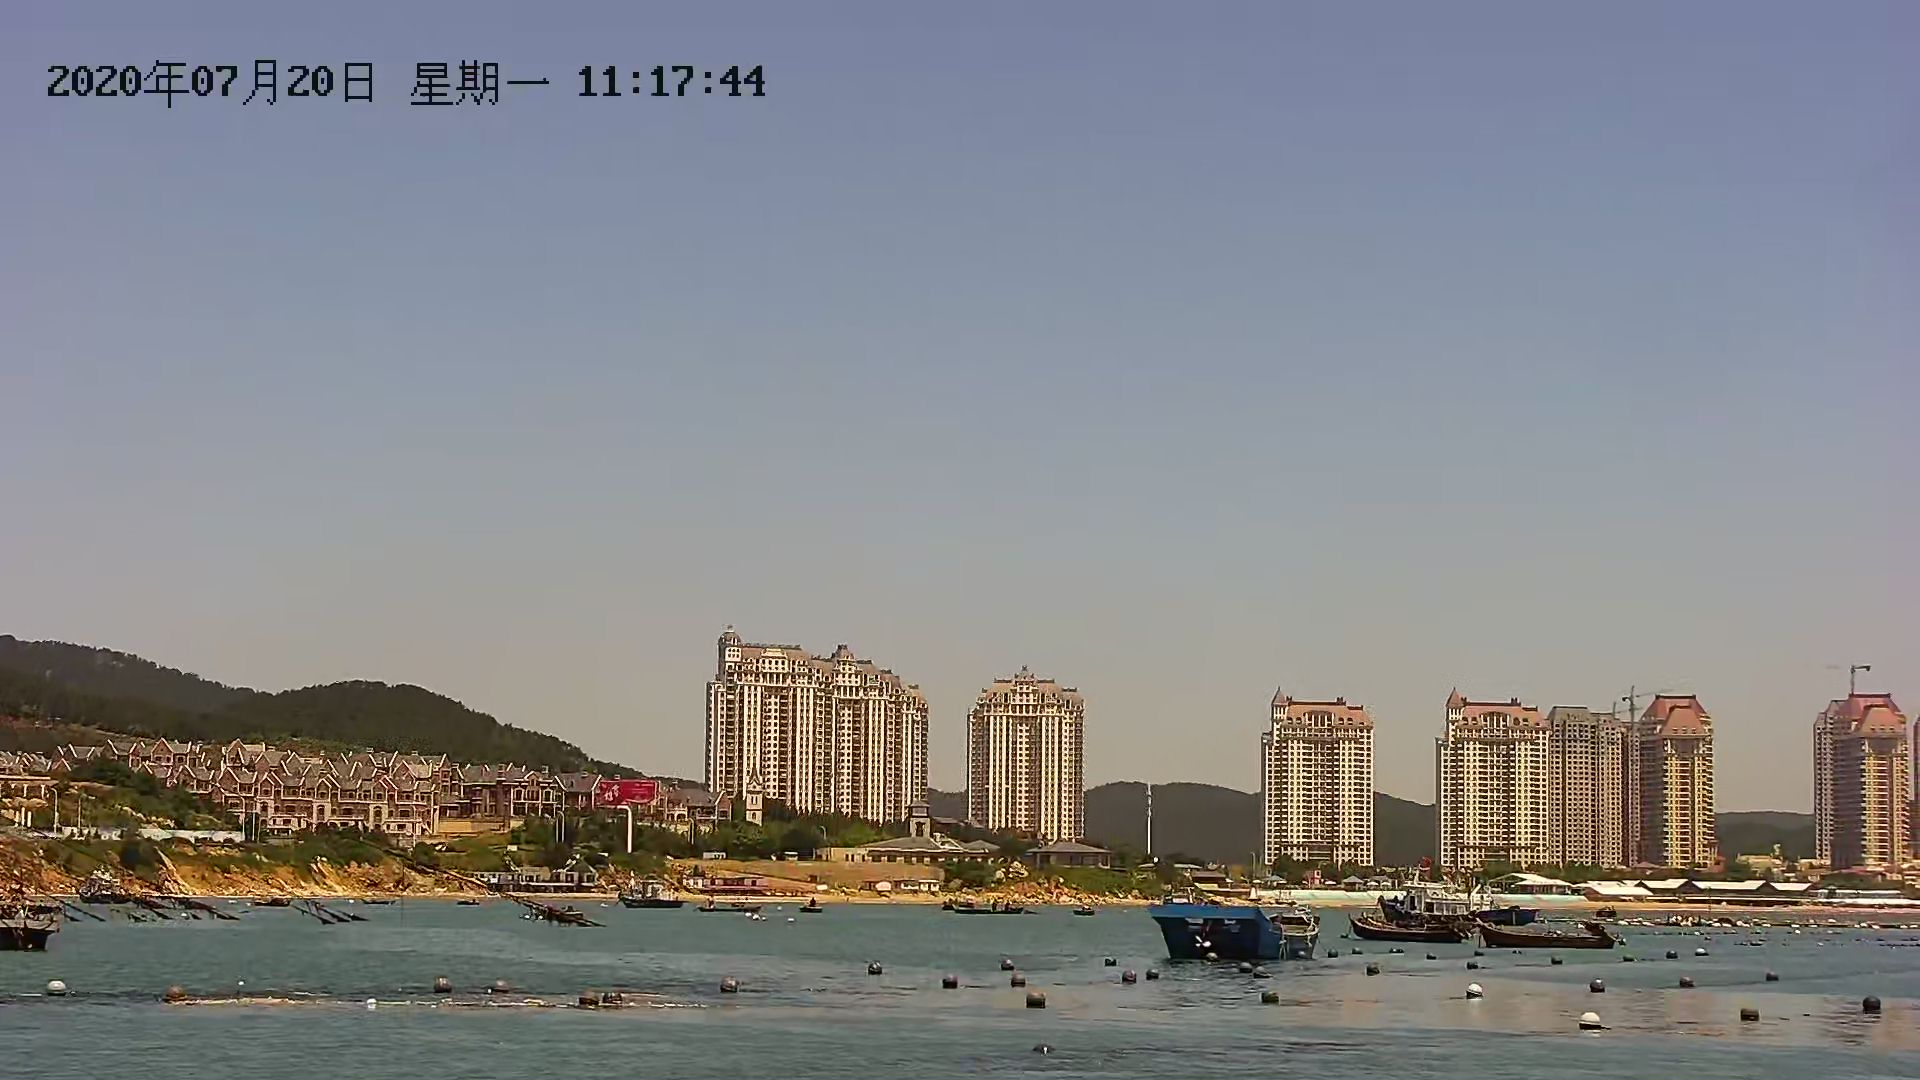ball: (1733, 1004, 1774, 1025), (1576, 1007, 1607, 1030), (1021, 989, 1048, 1010), (44, 982, 80, 998), (1858, 994, 1884, 1015), (719, 975, 744, 996), (1585, 975, 1611, 994), (939, 971, 967, 989), (1259, 989, 1284, 1009), (1466, 982, 1487, 1001), (1766, 967, 1785, 984), (1677, 975, 1704, 986)
boat: (1151, 885, 1352, 964), (1370, 866, 1491, 942), (1469, 918, 1633, 953), (1, 894, 73, 949), (611, 878, 692, 910)
